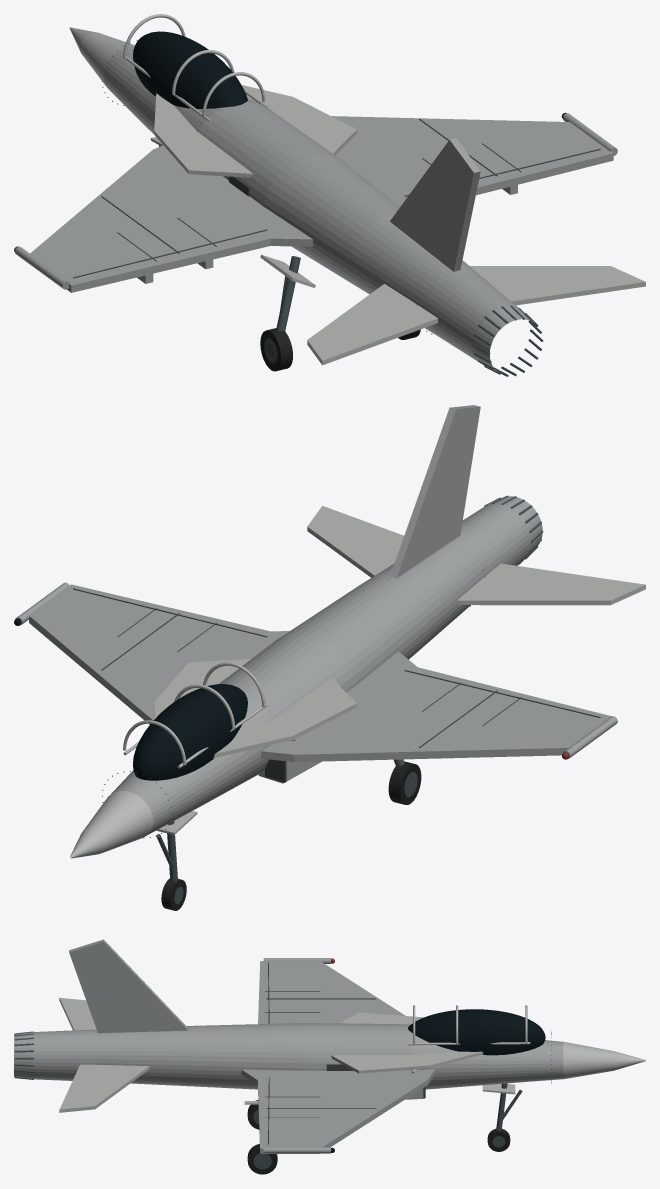
The picture shows the model from 3 angles, top to bottom: view 1: azimuth 30°, elevation 25°; view 2: azimuth 150°, elevation 25°; view 3: azimuth 270°, elevation 25°; orthographic projection. The views are drawn at different scales.
Parts seen in each view (by area): view 1: grey, light, glass, steel, dark, rubber; view 2: grey, light, glass, dark, rubber, steel; view 3: grey, light, glass, steel, dark, rubber.
Boxes of the visible parts, bbox=[...] form: grey: bbox=[15, 46, 617, 372]; light: bbox=[69, 14, 645, 365]; glass: bbox=[133, 31, 566, 118]; steel: bbox=[159, 145, 543, 376]; dark: bbox=[73, 40, 600, 360]; rubber: bbox=[260, 328, 420, 371]; grey: bbox=[15, 405, 617, 834]; light: bbox=[70, 506, 645, 858]; glass: bbox=[14, 618, 247, 780]; dark: bbox=[73, 569, 600, 838]; rubber: bbox=[161, 761, 421, 910]; steel: bbox=[156, 495, 543, 903]; grey: bbox=[14, 939, 563, 1153]; light: bbox=[59, 997, 645, 1112]; glass: bbox=[331, 1009, 545, 1152]; steel: bbox=[14, 1031, 522, 1169]; dark: bbox=[106, 962, 551, 1167]; rubber: bbox=[247, 1100, 510, 1174].
Bounding box in the file's own units: 9.44 × 4.81 × 13.13.
7 materials, 2 textured.
